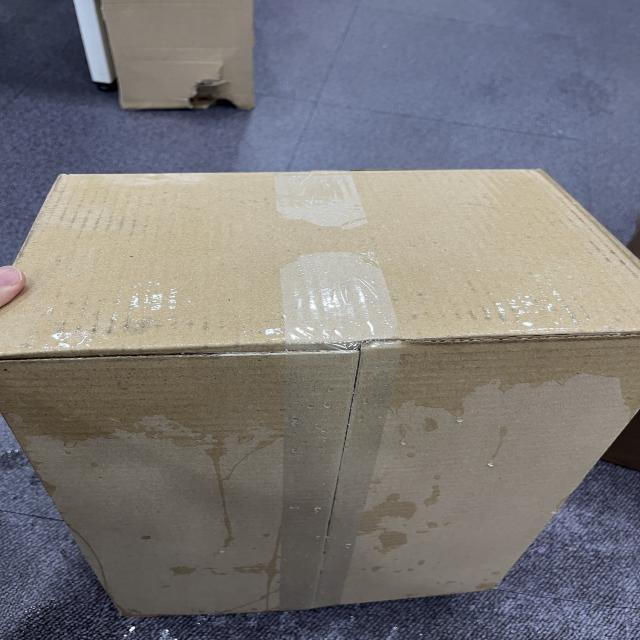hole: (187, 72, 247, 114)
wet: (0, 176, 640, 417)
